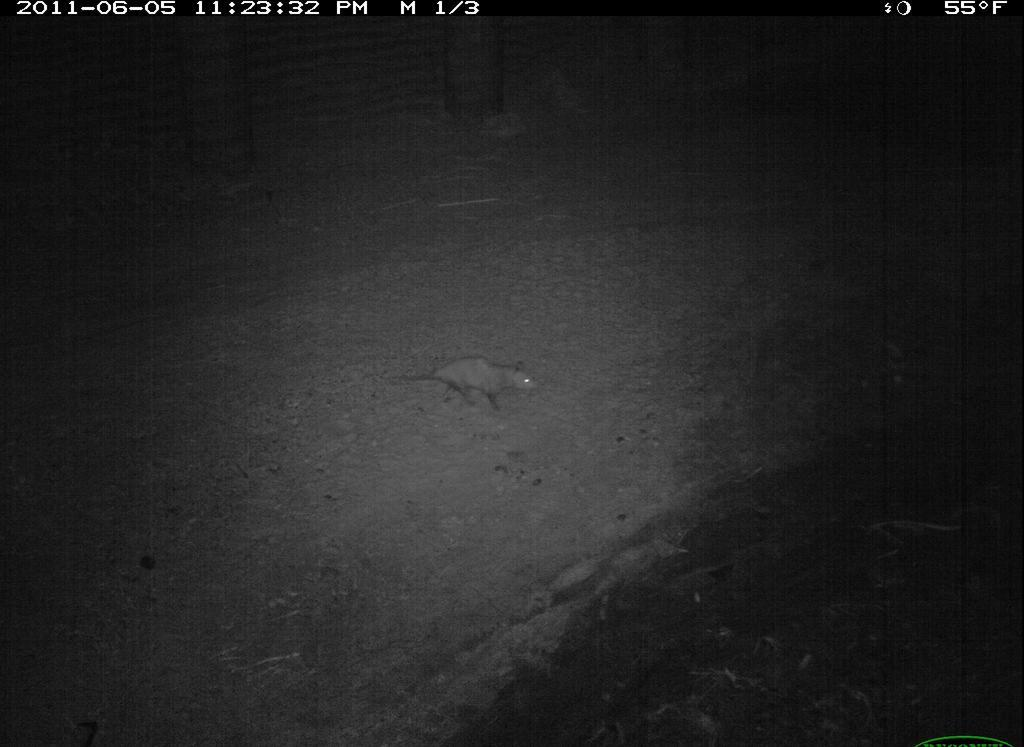opossum: (388, 345, 543, 424)
